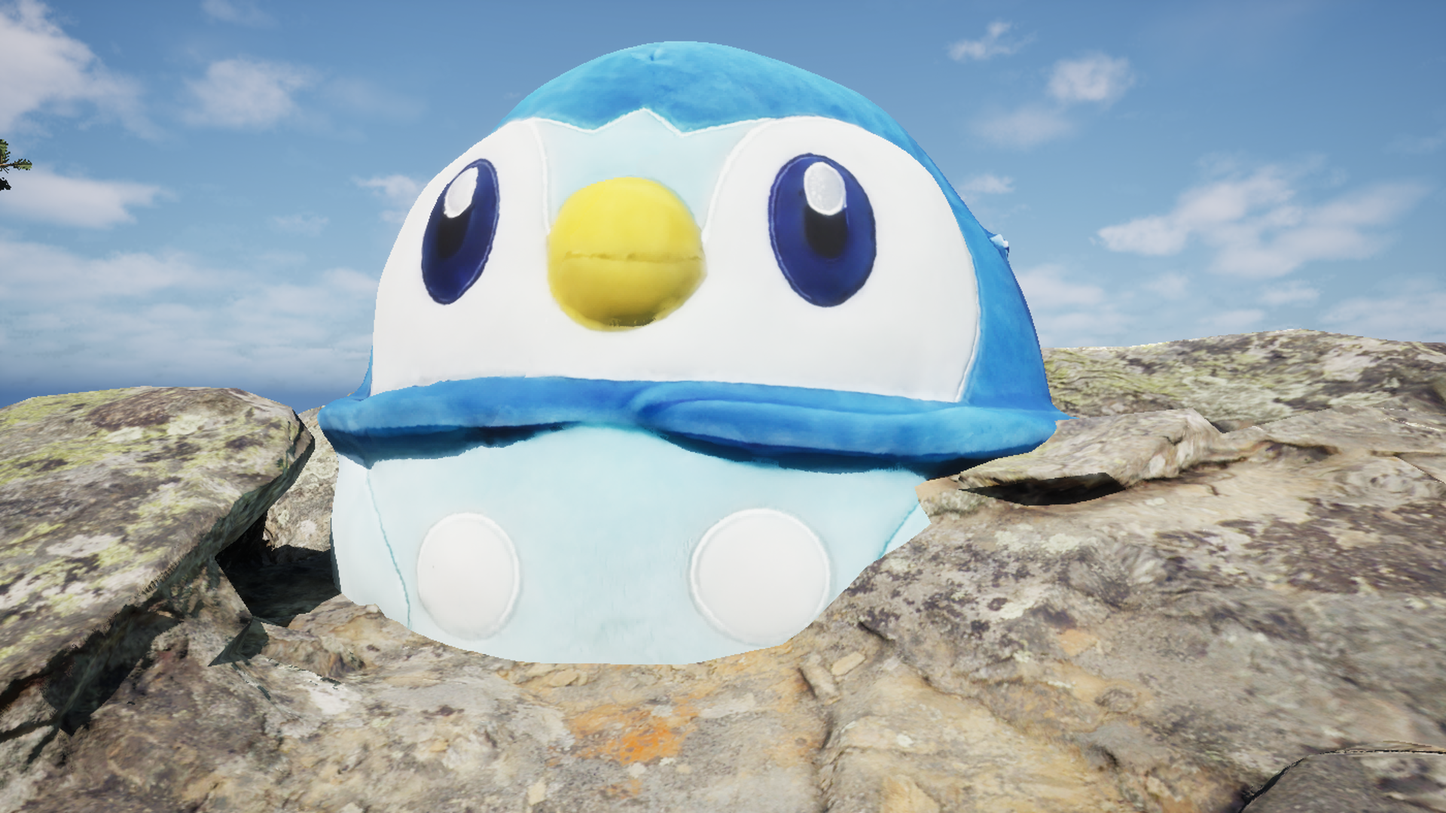Piplup: (175, 0, 1238, 813)
